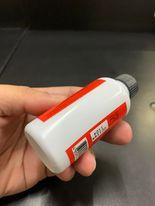-Bottle-: (25, 74, 139, 174)
